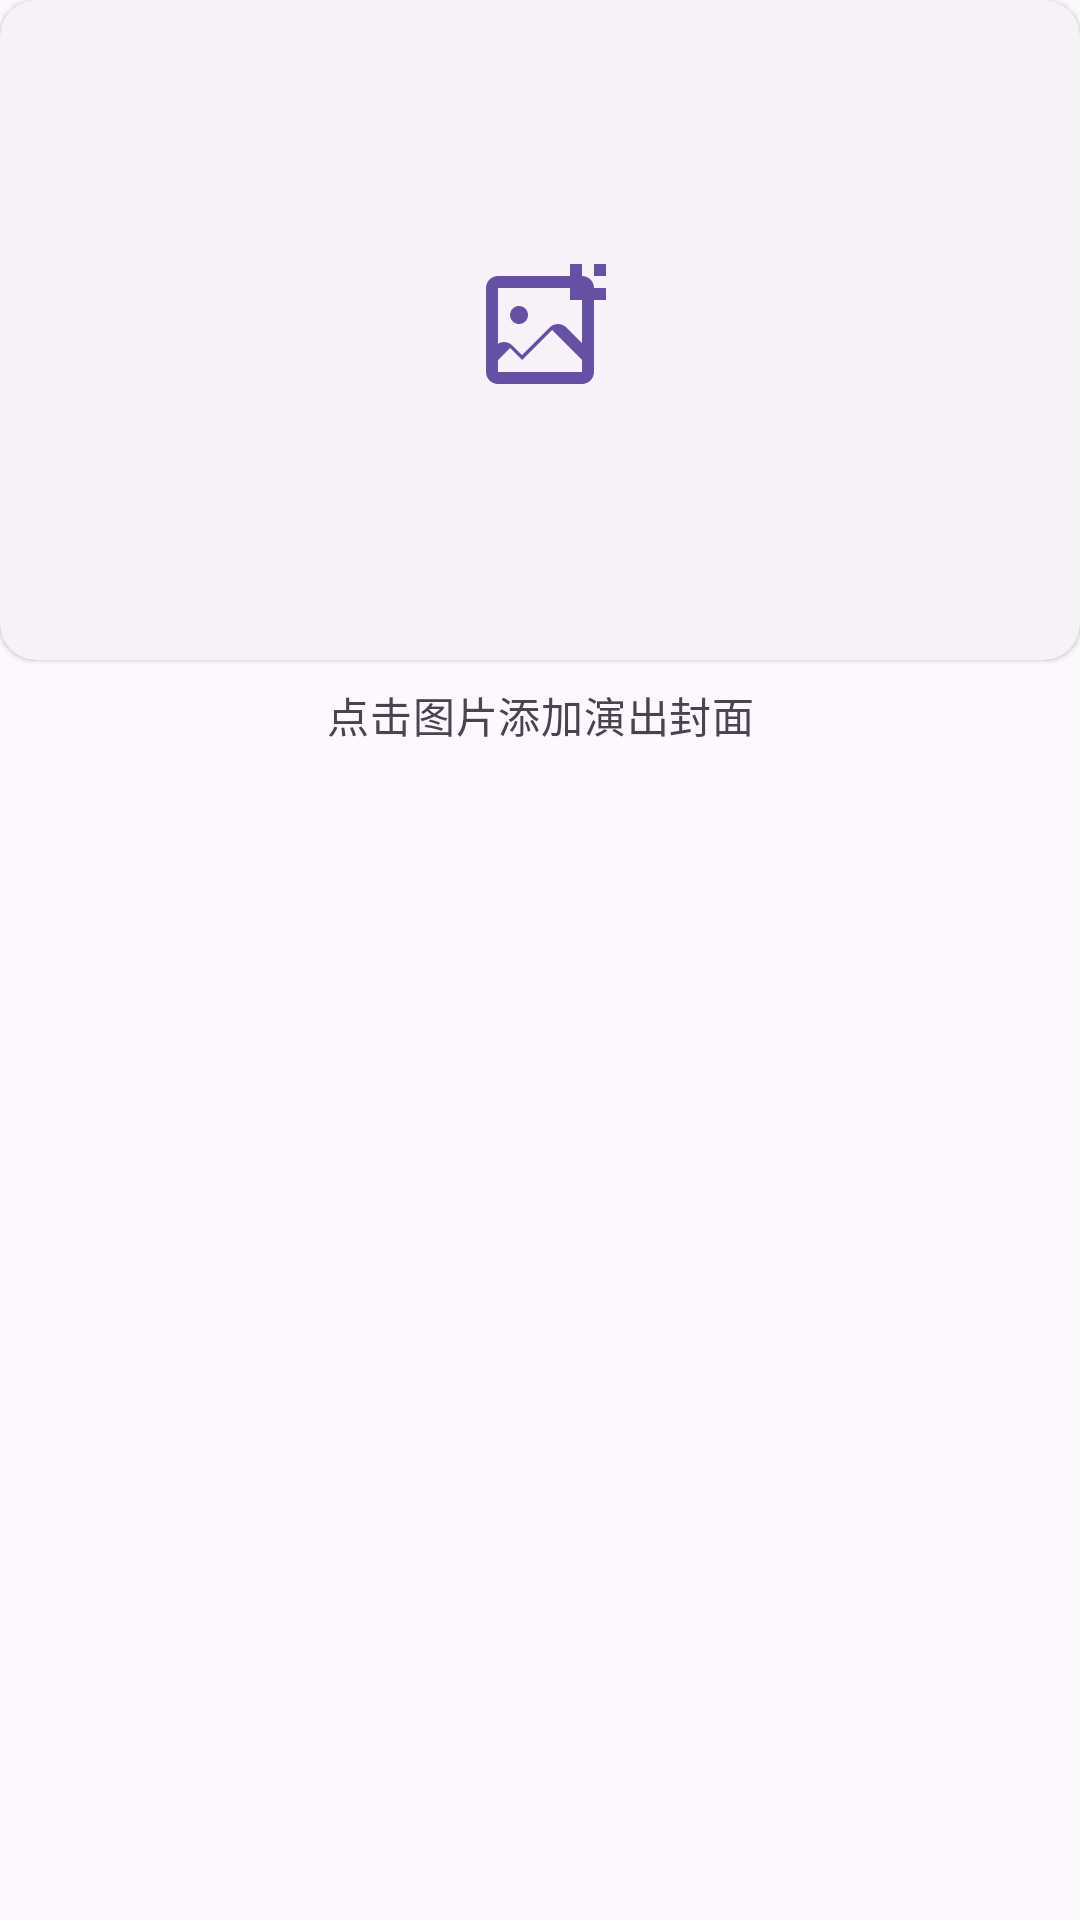

Point at icon controls on the screen. Image size 1080 × 1920, points as point (x, y).
add photo alternate: point (546, 324)
